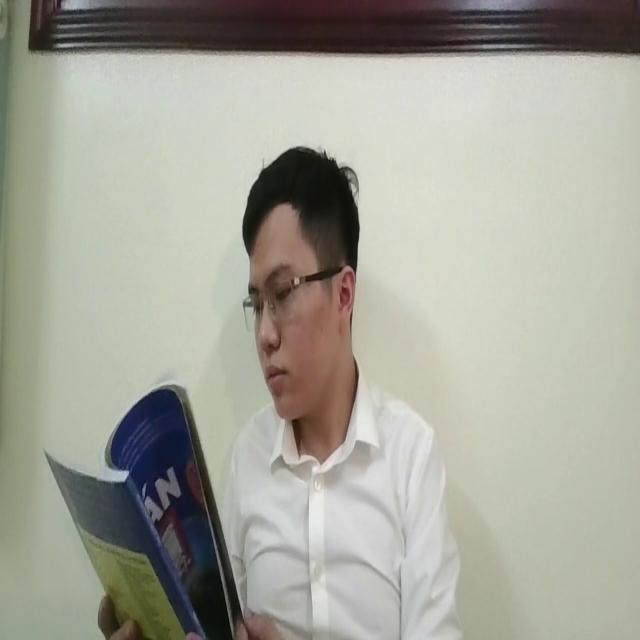book: (42, 366, 246, 640)
student: (218, 135, 462, 640)
